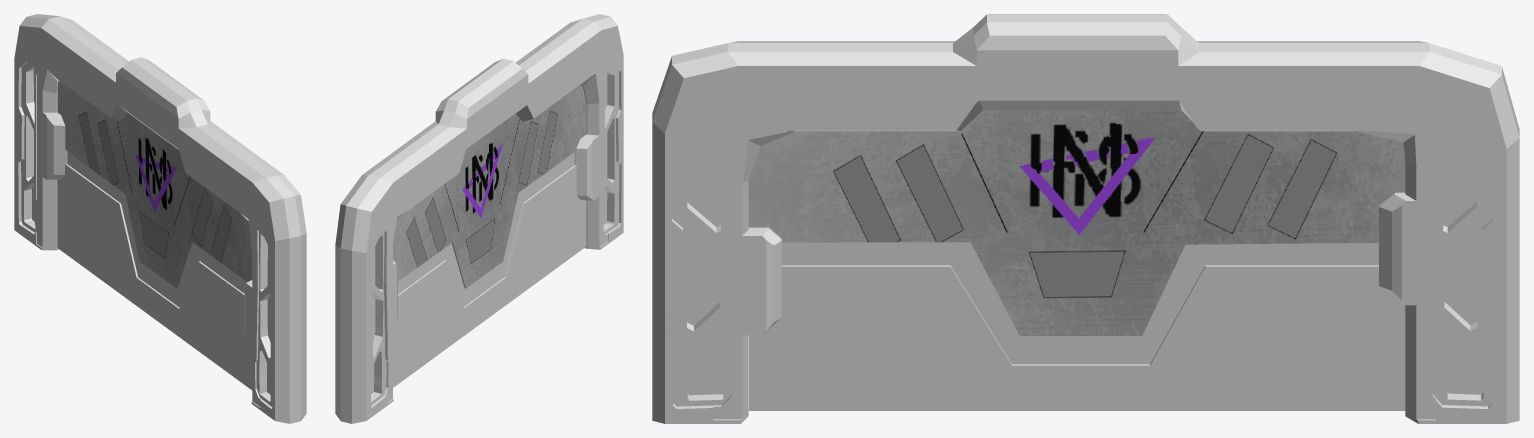
The model's file is scifidoor.fbx.
3 views of the same model, side by side, from view 1: azimuth 30°, elevation 25°; view 2: azimuth 150°, elevation 25°; view 3: azimuth 270°, elevation 25° (orthographic). The views are drawn at different scales.
Visible parts, largest first — view 1: Cube, Cube.002, Cube.003, Cube.001; view 2: Cube, Cube.002, Cube.003, Cube.001; view 3: Cube, Cube.002, Cube.003, Cube.001.
Boxes of the visible parts, left/top/right/bottom form: Cube: left=14, top=14, right=306, bottom=423; Cube.002: left=57, top=81, right=252, bottom=288; Cube.003: left=57, top=164, right=252, bottom=390; Cube.001: left=67, top=151, right=246, bottom=307; Cube: left=335, top=14, right=623, bottom=423; Cube.002: left=393, top=86, right=586, bottom=288; Cube.003: left=393, top=165, right=586, bottom=387; Cube.001: left=398, top=152, right=574, bottom=306; Cube: left=652, top=14, right=1519, bottom=423; Cube.002: left=748, top=110, right=1405, bottom=335; Cube.003: left=749, top=265, right=1405, bottom=410; Cube.001: left=781, top=242, right=1378, bottom=364.
Bounding box in the file's own units: 74.06 × 552 × 1089.
Materials: 3 (1 with a texture image).
